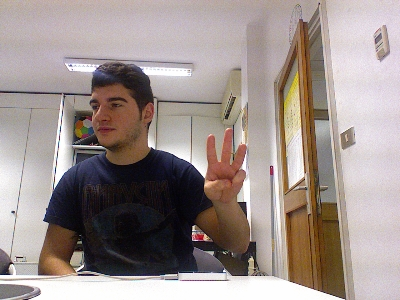三分: (202, 125, 247, 203)
